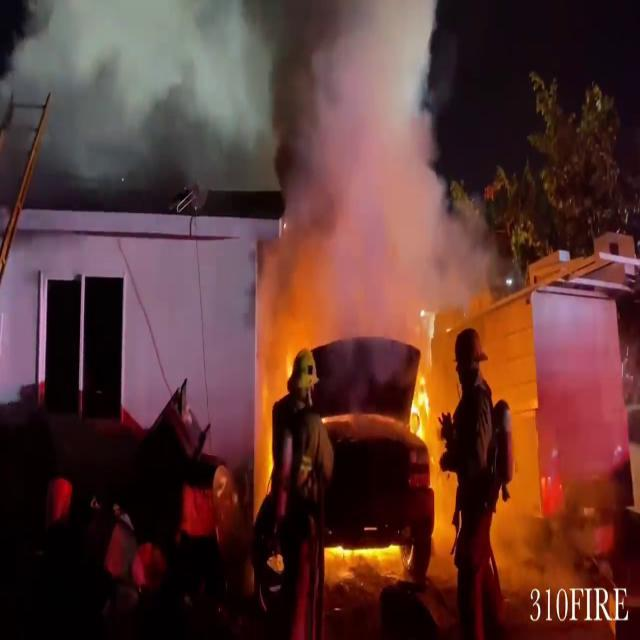Smoke: (240, 0, 510, 322)
